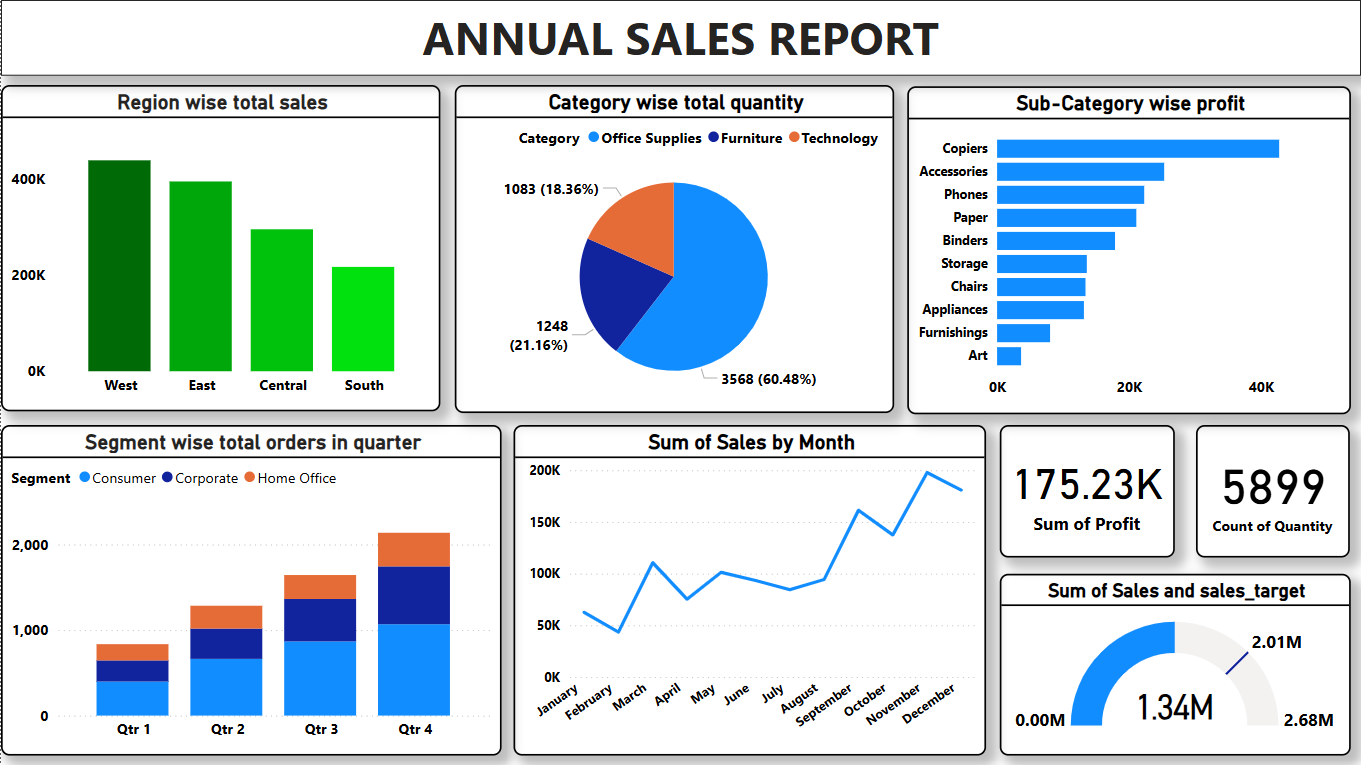

What the dashboard file says about the page in this screenshot:
{"tool":"powerbi","page":{"name":"Page 1","canvas":[1280,720],"ordinal":0},"visuals":[{"type":"columnChart","title":"Region wise total sales","fields":{"Category":["Orders.Region"],"Y":["Sum(Orders.Sales)"]},"box":[0,80,413.8,307.5],"z":0},{"type":"pieChart","title":"Category wise total quantity","fields":{"Category":["Orders.Category"],"Y":["CountNonNull(Orders.Quantity)"]},"box":[427.5,80,413.8,308.8],"z":1000},{"type":"columnChart","title":"Segment wise total orders in quarter","fields":{"Category":["Orders.Order Date.Variation.Date Hierarchy.Quarter"],"Series":["Orders.Segment"],"Y":["CountNonNull(Orders.Order ID)"]},"box":[0,400,471.2,311.2],"z":2000},{"type":"barChart","title":"Sub-Category wise profit","fields":{"Category":["Orders.Sub-Category"],"Y":["Sum(Orders.Profit)"]},"box":[852.5,81.2,417.5,308.8],"z":3000},{"type":"gauge","fields":{"Y":["Sum(Orders.Sales)"],"TargetValue":["Orders.Sales_target"]},"box":[940,540,330,171.2],"z":4000},{"type":"card","fields":{"Values":["Sum(Orders.Profit)"]},"box":[940,400,165,125],"z":5000},{"type":"textbox","box":[0,0,1280,71.2],"z":6000},{"type":"card","fields":{"Values":["CountNonNull(Orders.Quantity)"]},"box":[1125,400,145,125],"z":7000},{"type":"lineChart","fields":{"Y":["Sum(Orders.Sales)"],"Category":["Orders.Order Date.Variation.Date Hierarchy.Month"]},"box":[482.5,400,445,311.2],"z":8000}]}

Visuals, with their boxes in screenshot pixels (x1, y1, x2, y2), scaled from the page's 1280x720 canvas onto the 1361x765 screenshot:
"Region wise total sales" columnChart: detection(0, 85, 440, 412)
"Category wise total quantity" pieChart: detection(455, 85, 895, 413)
"Segment wise total orders in quarter" columnChart: detection(0, 425, 501, 756)
"Sub-Category wise profit" barChart: detection(906, 86, 1350, 414)
gauge - Sum(Orders.Sales) x Orders.Sales_target: detection(999, 574, 1350, 756)
card - Sum(Orders.Profit): detection(999, 425, 1175, 558)
textbox: detection(0, 0, 1360, 76)
card - CountNonNull(Orders.Quantity): detection(1196, 425, 1350, 558)
lineChart - Sum(Orders.Sales) x Orders.Order Date.Variation.Date Hierarchy.Month: detection(513, 425, 986, 756)
